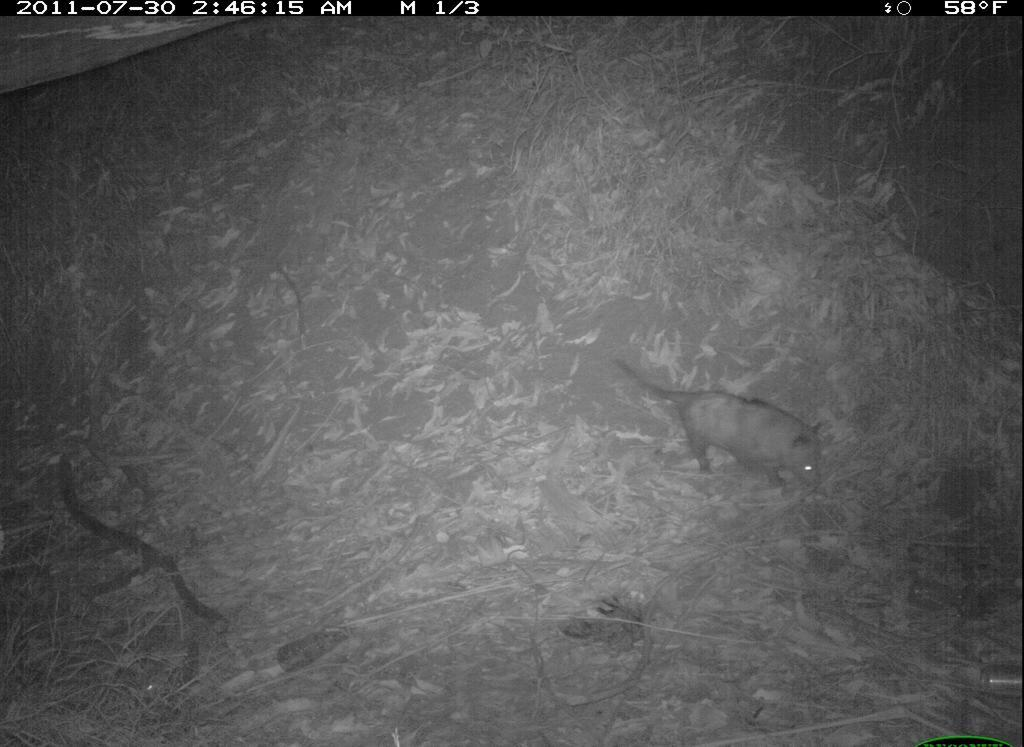opossum: (609, 351, 844, 500)
